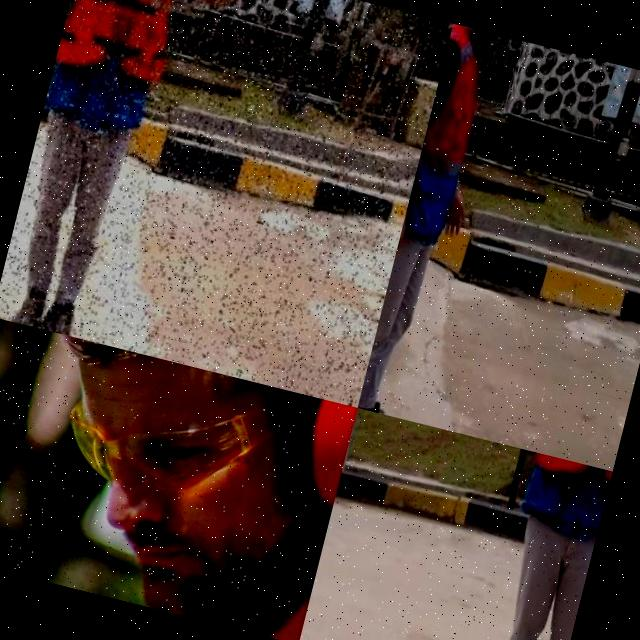boots: (357, 391, 432, 425), (37, 293, 90, 339), (6, 281, 52, 329)
vest: (396, 23, 518, 266), (42, 0, 207, 140), (516, 451, 612, 531)
